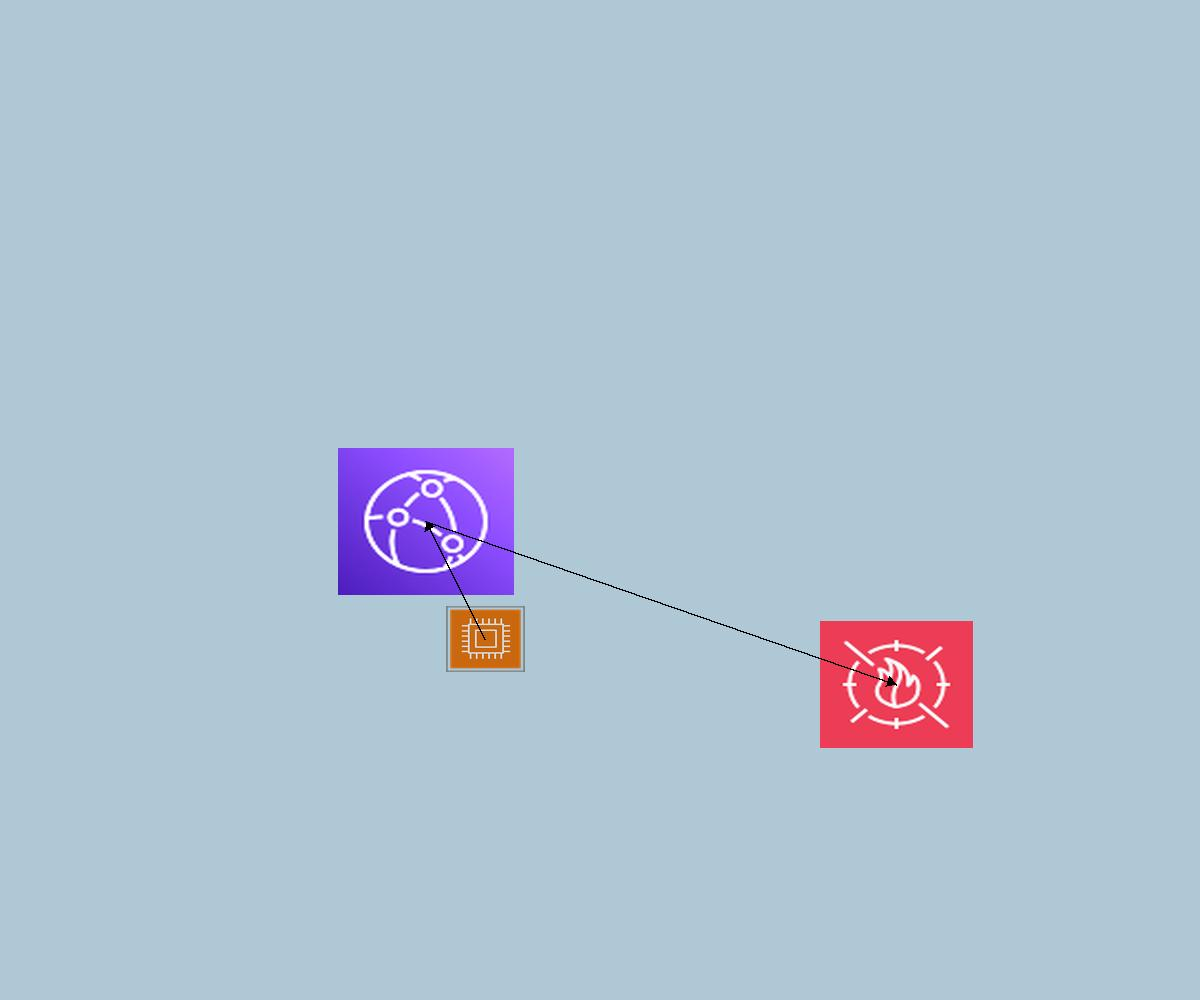AWS-Category_Compute: (446, 606, 525, 672)
AWS-CloudFront: (338, 448, 514, 595)
AWS-WAF: (820, 621, 973, 748)
